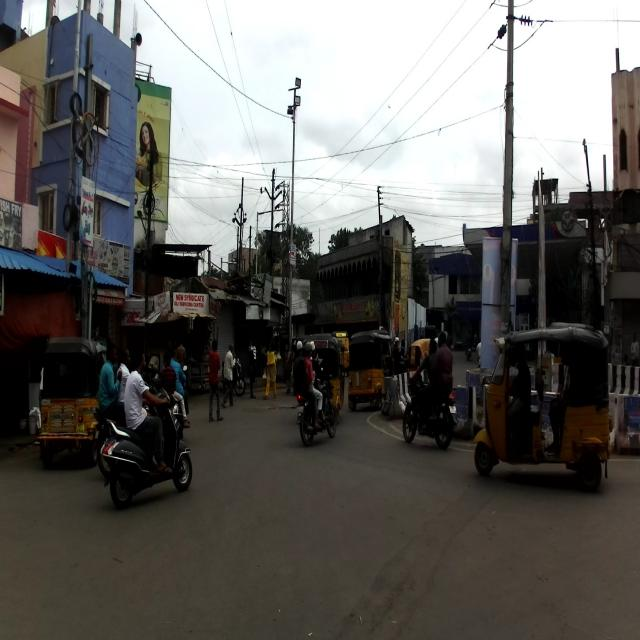autorickshaw: (472, 329, 612, 492), (39, 335, 107, 469)
motorcycle_Hero: (296, 367, 337, 447)
motorcycle_Honda: (93, 379, 157, 488)
motorcycle_TVS: (402, 367, 458, 450)
scooter: (100, 385, 192, 510), (161, 364, 188, 428)
